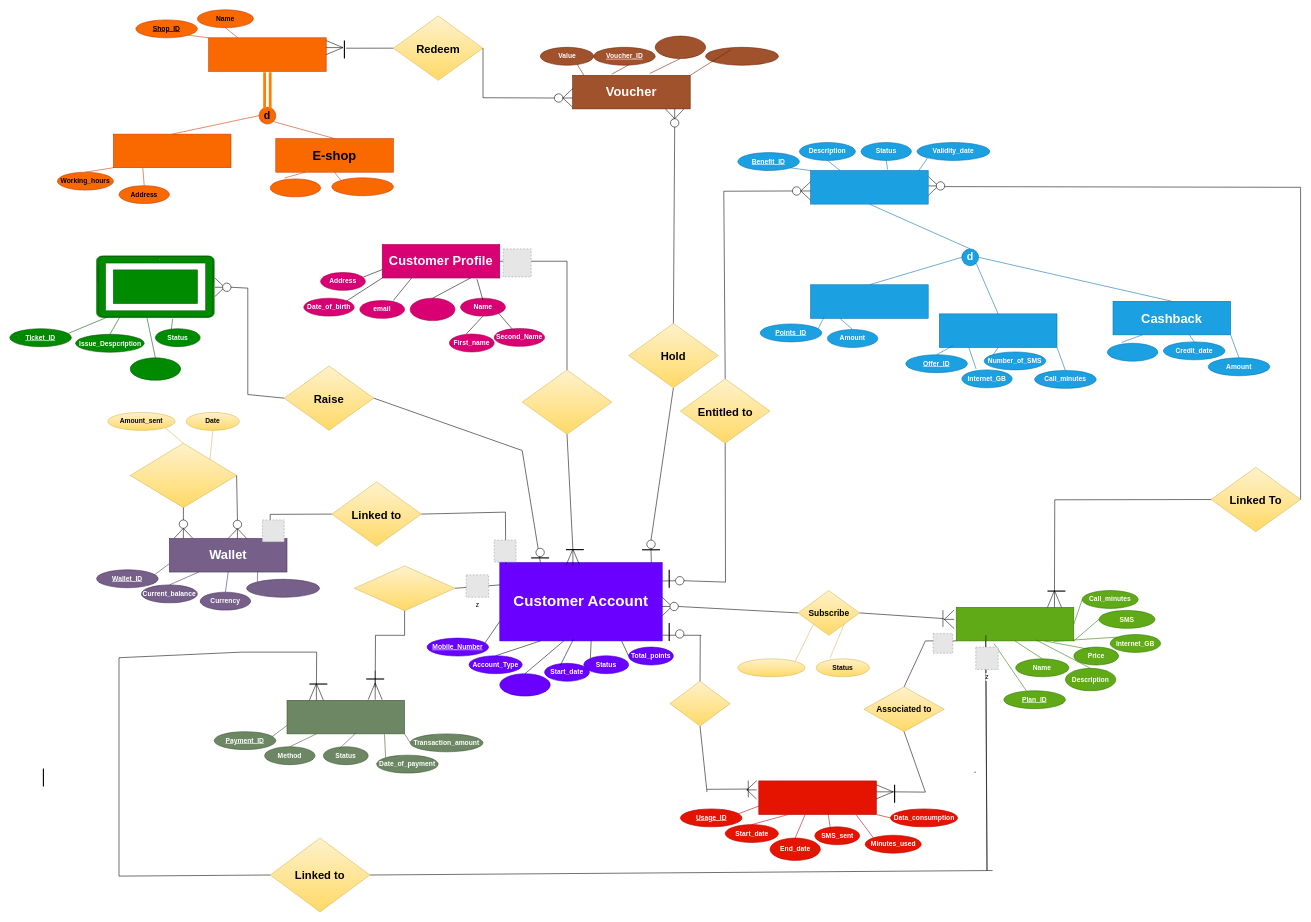
Some shapes in this 1311 by 922 pixel diagram are drawn without their labels. Grey dashed boxes stand in for pictures. Each missing label, with the box of its shape:
Benefits: (810, 170, 928, 204)
Cashback_ID: (1107, 343, 1158, 361)
Exclusive Offer: (939, 313, 1057, 347)
Expire_date: (655, 36, 706, 59)
Has: (522, 369, 612, 434)
Initiated By: (354, 565, 455, 611)
Last_modified_date: (246, 579, 319, 597)
Line_balance: (499, 673, 550, 696)
National_ID: (410, 298, 455, 321)
Payment: (286, 700, 405, 734)
Physical Shop: (113, 134, 231, 168)
Plan Usage: (758, 780, 876, 815)
Points Group: (810, 284, 928, 318)
Points_required: (705, 47, 778, 65)
Priority_level: (130, 357, 181, 380)
Rating: (331, 177, 393, 196)
Service Plan: (956, 607, 1074, 641)
Shop: (208, 37, 326, 71)
Subscription_date: (737, 658, 805, 677)
Technical Support Ticket: (113, 269, 197, 304)
Track: (669, 681, 730, 726)
Transfer money: (130, 443, 237, 508)
Website_URL: (270, 178, 321, 197)
